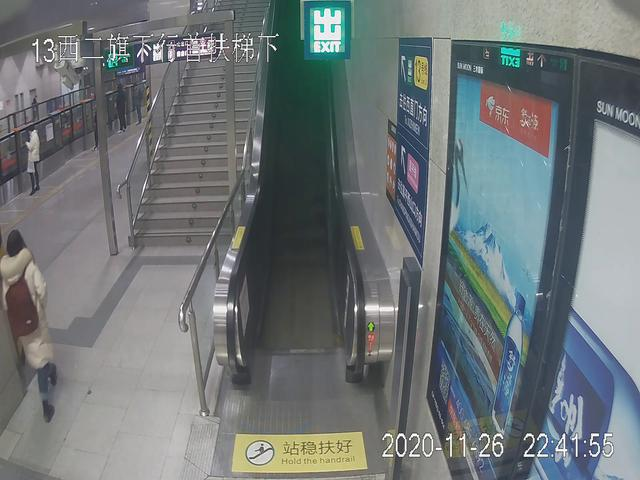person: (1, 227, 55, 423), (24, 125, 42, 197), (113, 81, 130, 133)
